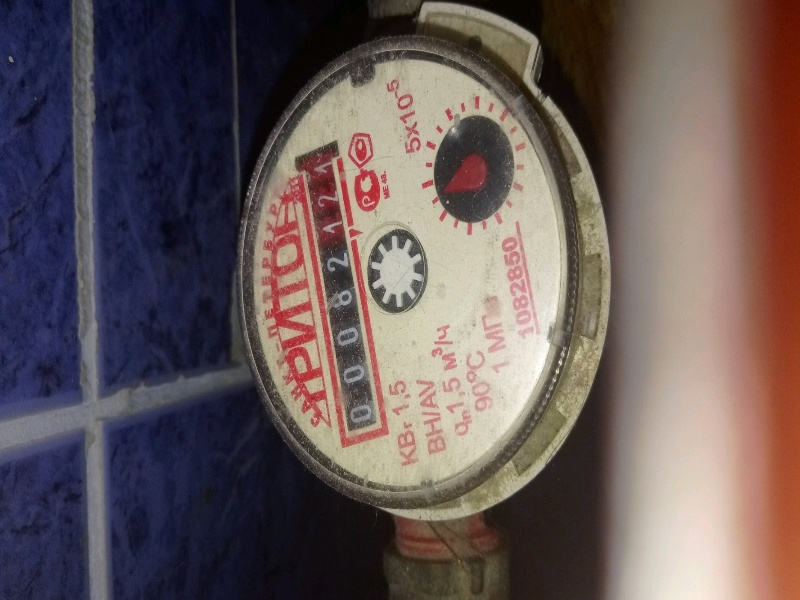dial: (308, 164, 382, 458)
